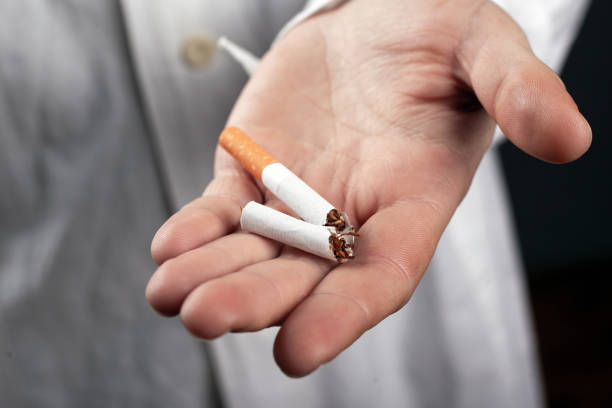cigarette: (218, 125, 353, 235), (240, 200, 355, 265)
